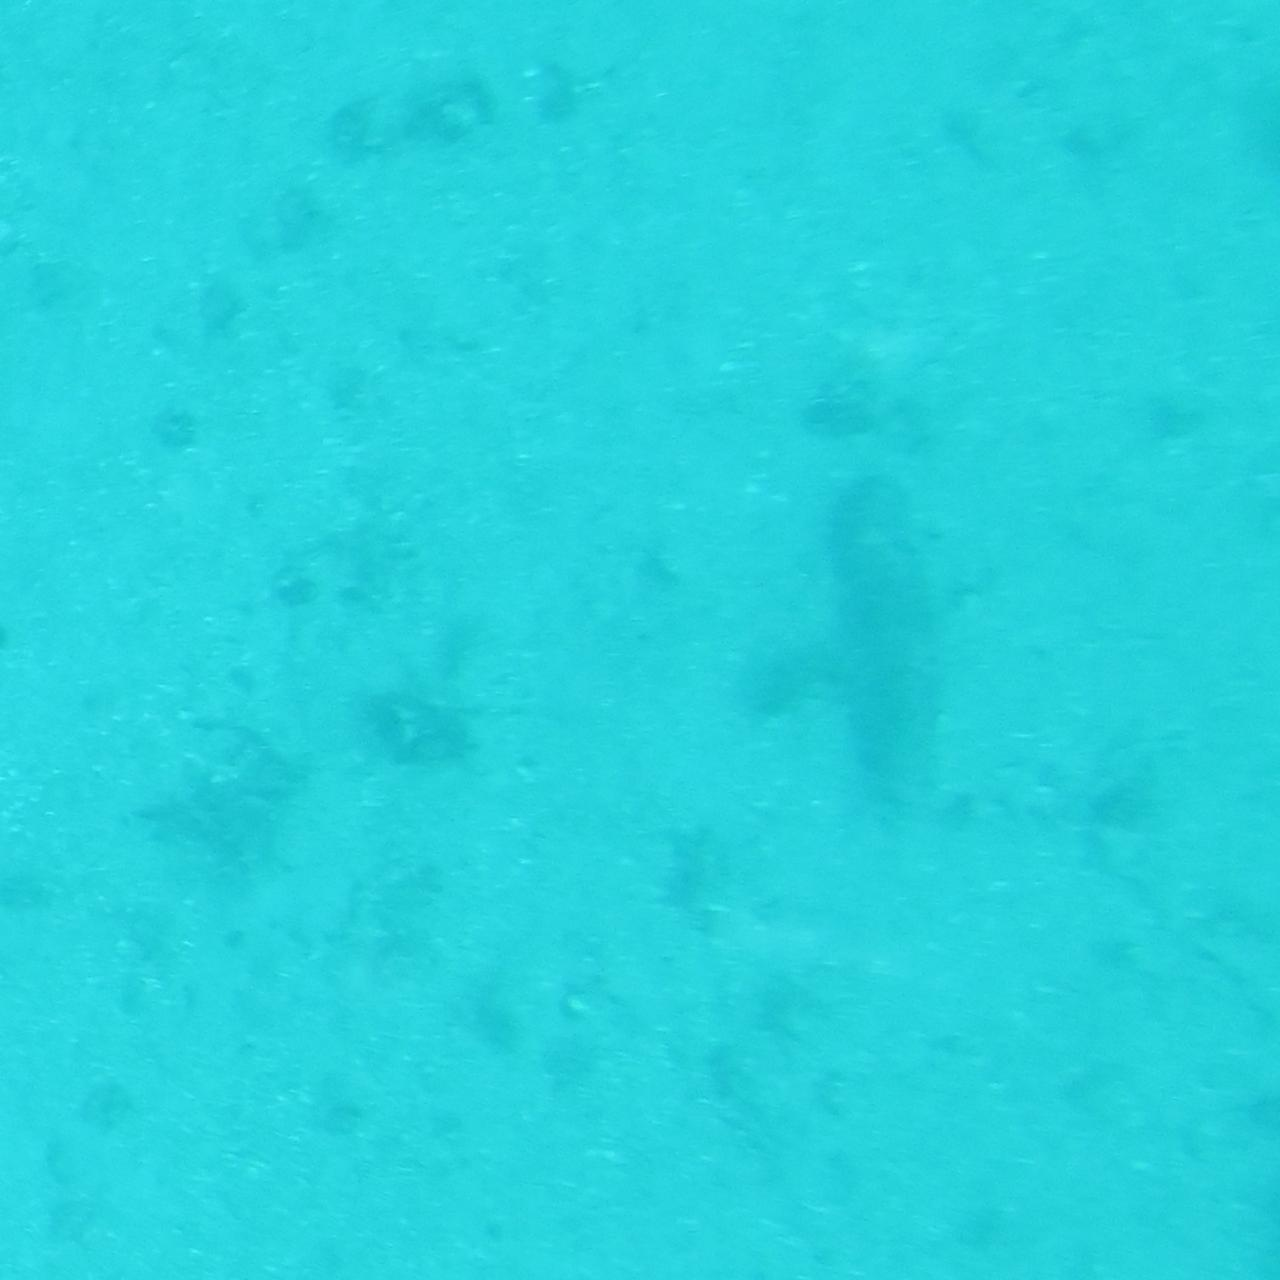Holothuria tubulosa: (812, 478, 944, 802)
